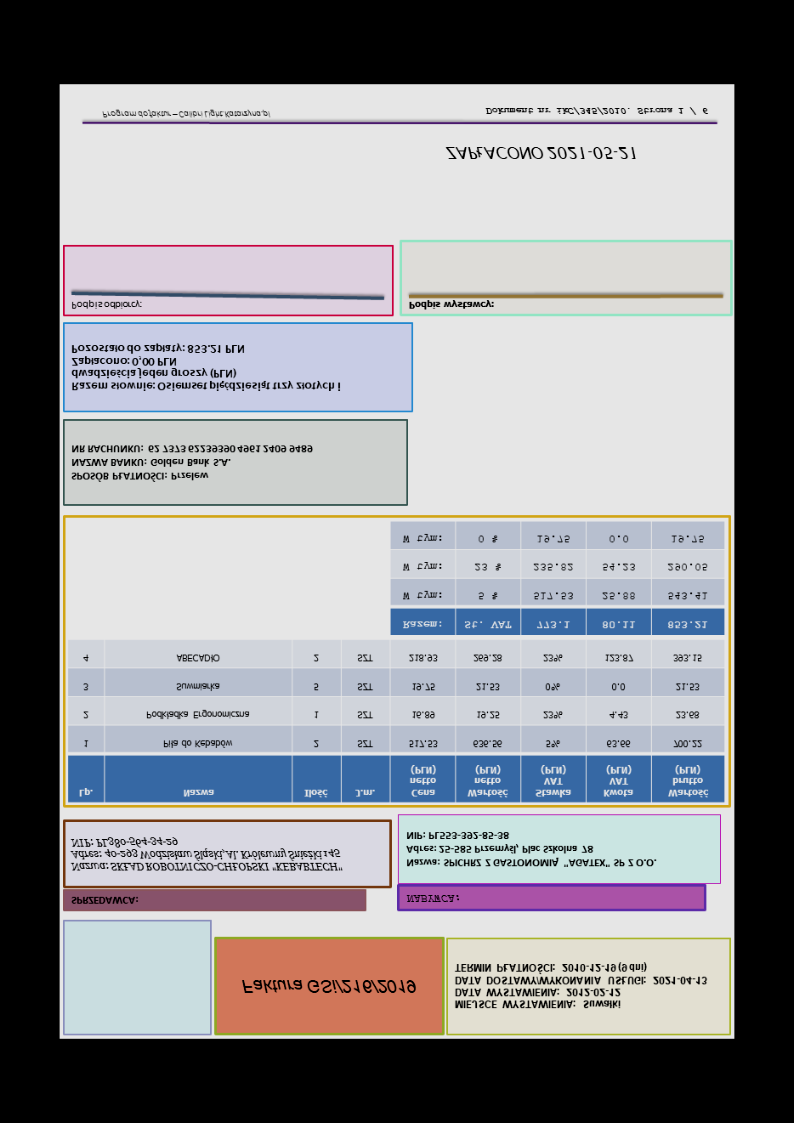Table: (66, 638, 725, 804), (389, 520, 725, 636)
TextBox: (70, 342, 343, 394), (453, 961, 708, 1012), (69, 835, 346, 873), (70, 443, 314, 484), (405, 831, 659, 869), (443, 142, 638, 163), (239, 978, 417, 996), (483, 105, 710, 117), (99, 107, 273, 120), (406, 298, 496, 312), (69, 298, 143, 312), (69, 894, 139, 907), (406, 893, 460, 904)
